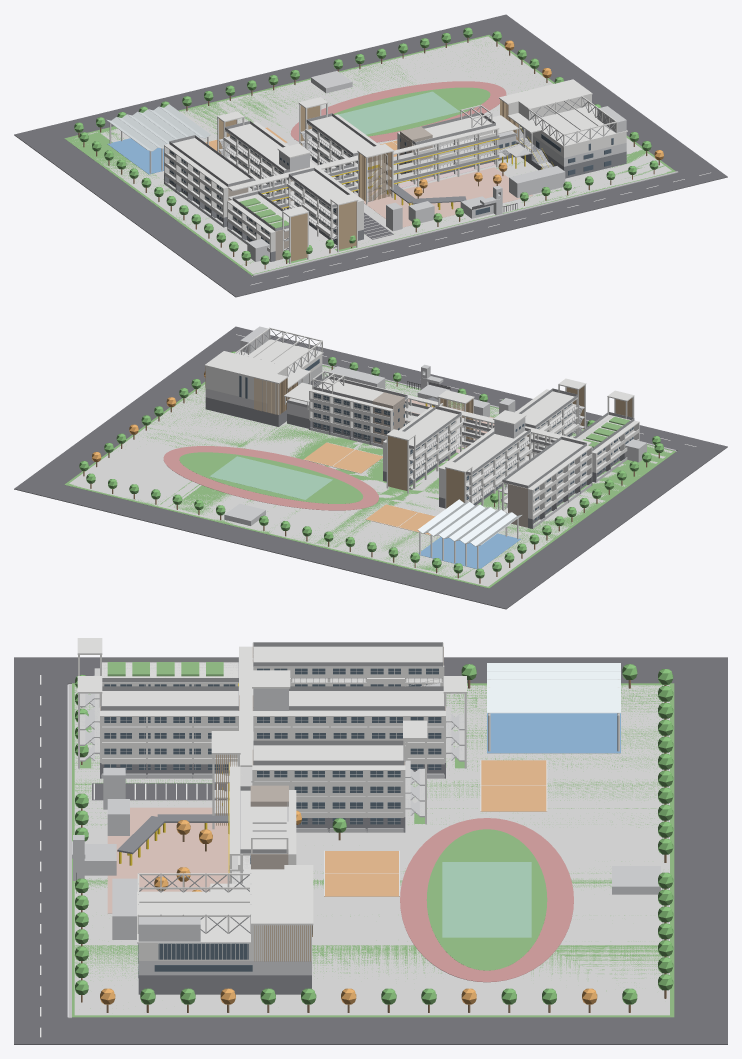
File: campus_all.glb
3 renders of one model, top to bottom at view 1: azimuth 30°, elevation 25°; view 2: azimuth 150°, elevation 25°; view 3: azimuth 270°, elevation 25°, orthographic. The views are drawn at different scales.
Visible parts, largest first — view 1: 地面與運動場, NAV_walkable, 中央廊道與樓梯, E_向陽樓_活動中心, 其他構造物, 樹木, D_望德樓, A_愛學樓_北段, B_集賢樓_北段, B_集賢樓_南段, C_築夢樓, A_愛學樓_西側陽台_北 (+6 smaller); view 2: 地面與運動場, NAV_walkable, E_向陽樓_活動中心, 中央廊道與樓梯, 其他構造物, 樹木, A_愛學樓_北段, D_望德樓, B_集賢樓_北段, C_築夢樓, A_愛學樓_西側陽台_北, B_集賢樓_南段 (+8 smaller); view 3: 地面與運動場, NAV_walkable, E_向陽樓_活動中心, 其他構造物, 樹木, 中央廊道與樓梯, C_築夢樓, B_集賢樓_南段, A_愛學樓_北段, B_集賢樓_北段, B_集賢樓_東側陽台_南, C_築夢樓_東側陽台 (+7 smaller).
Part boxes in pixels (x1=…): 地面與運動場: x1=14, y1=14, x2=727, y2=297; NAV_walkable: x1=74, y1=36, x2=671, y2=273; 中央廊道與樓梯: x1=217, y1=97, x2=553, y2=263; E_向陽樓_活動中心: x1=499, y1=79, x2=627, y2=178; 其他構造物: x1=106, y1=71, x2=565, y2=261; 樹木: x1=74, y1=27, x2=663, y2=269; D_望德樓: x1=400, y1=112, x2=496, y2=184; A_愛學樓_北段: x1=169, y1=135, x2=254, y2=221; B_集賢樓_北段: x1=223, y1=121, x2=307, y2=209; B_集賢樓_南段: x1=287, y1=167, x2=349, y2=244; C_築夢樓: x1=305, y1=113, x2=378, y2=193; A_愛學樓_西側陽台_北: x1=164, y1=144, x2=228, y2=227; 地面與運動場: x1=14, y1=326, x2=727, y2=609; NAV_walkable: x1=69, y1=366, x2=672, y2=586; E_向陽樓_活動中心: x1=204, y1=326, x2=323, y2=426; 中央廊道與樓梯: x1=332, y1=376, x2=634, y2=509; 其他構造物: x1=224, y1=366, x2=646, y2=568; 樹木: x1=79, y1=351, x2=663, y2=583; A_愛學樓_北段: x1=501, y1=436, x2=586, y2=527; D_望德樓: x1=312, y1=376, x2=408, y2=442; B_集賢樓_北段: x1=452, y1=428, x2=532, y2=505; C_築夢樓: x1=402, y1=406, x2=462, y2=488; A_愛學樓_西側陽台_北: x1=528, y1=445, x2=592, y2=528; B_集賢樓_南段: x1=519, y1=388, x2=579, y2=456; 地面與運動場: x1=14, y1=657, x2=727, y2=1044; NAV_walkable: x1=74, y1=662, x2=669, y2=1015; E_向陽樓_活動中心: x1=137, y1=865, x2=313, y2=994; 其他構造物: x1=103, y1=662, x2=660, y2=939; 樹木: x1=75, y1=664, x2=673, y2=1012; 中央廊道與樓梯: x1=77, y1=638, x2=466, y2=883; C_築夢樓: x1=252, y1=740, x2=405, y2=827; B_集賢樓_南段: x1=99, y1=686, x2=240, y2=773; A_愛學樓_北段: x1=252, y1=642, x2=444, y2=686; B_集賢樓_北段: x1=252, y1=686, x2=446, y2=773; B_集賢樓_東側陽台_南: x1=100, y1=711, x2=239, y2=778; C_築夢樓_東側陽台: x1=252, y1=765, x2=405, y2=832.
Bounding box in the file's own units: 205 × 21.86 × 160.
